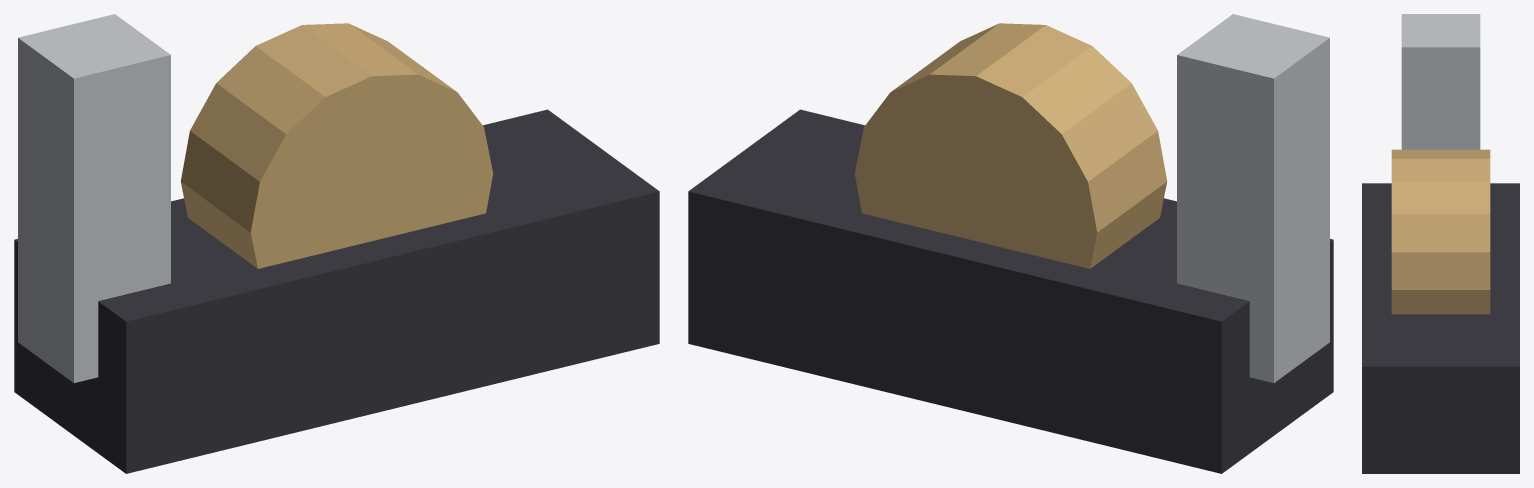
Rendered from sm_supply_tape_dispenser.glb.
The picture shows the model from 3 angles, left to right: view 1: azimuth 30°, elevation 25°; view 2: azimuth 150°, elevation 25°; view 3: azimuth 270°, elevation 25°; orthographic projection. The views are drawn at different scales.
Visible parts, largest first — view 1: tape_dispenser, tape_dispenser_roll, tape_dispenser_handle; view 2: tape_dispenser, tape_dispenser_roll, tape_dispenser_handle; view 3: tape_dispenser, tape_dispenser_roll, tape_dispenser_handle.
Part boxes in pixels (x1,y1,x2,y2): tape_dispenser: (14, 109, 659, 473); tape_dispenser_roll: (180, 23, 493, 268); tape_dispenser_handle: (18, 14, 170, 382); tape_dispenser: (688, 109, 1333, 473); tape_dispenser_roll: (854, 23, 1167, 268); tape_dispenser_handle: (1177, 14, 1329, 382); tape_dispenser: (1362, 183, 1519, 473); tape_dispenser_roll: (1391, 149, 1490, 314); tape_dispenser_handle: (1401, 14, 1480, 149).
Size of what is drawn, in the model's own units: 0.23 by 0.15 by 0.08.
